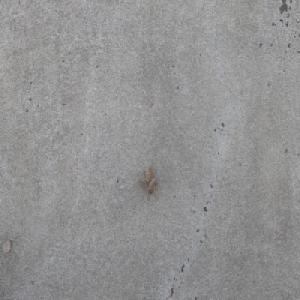Rock: (137, 162, 156, 195)
